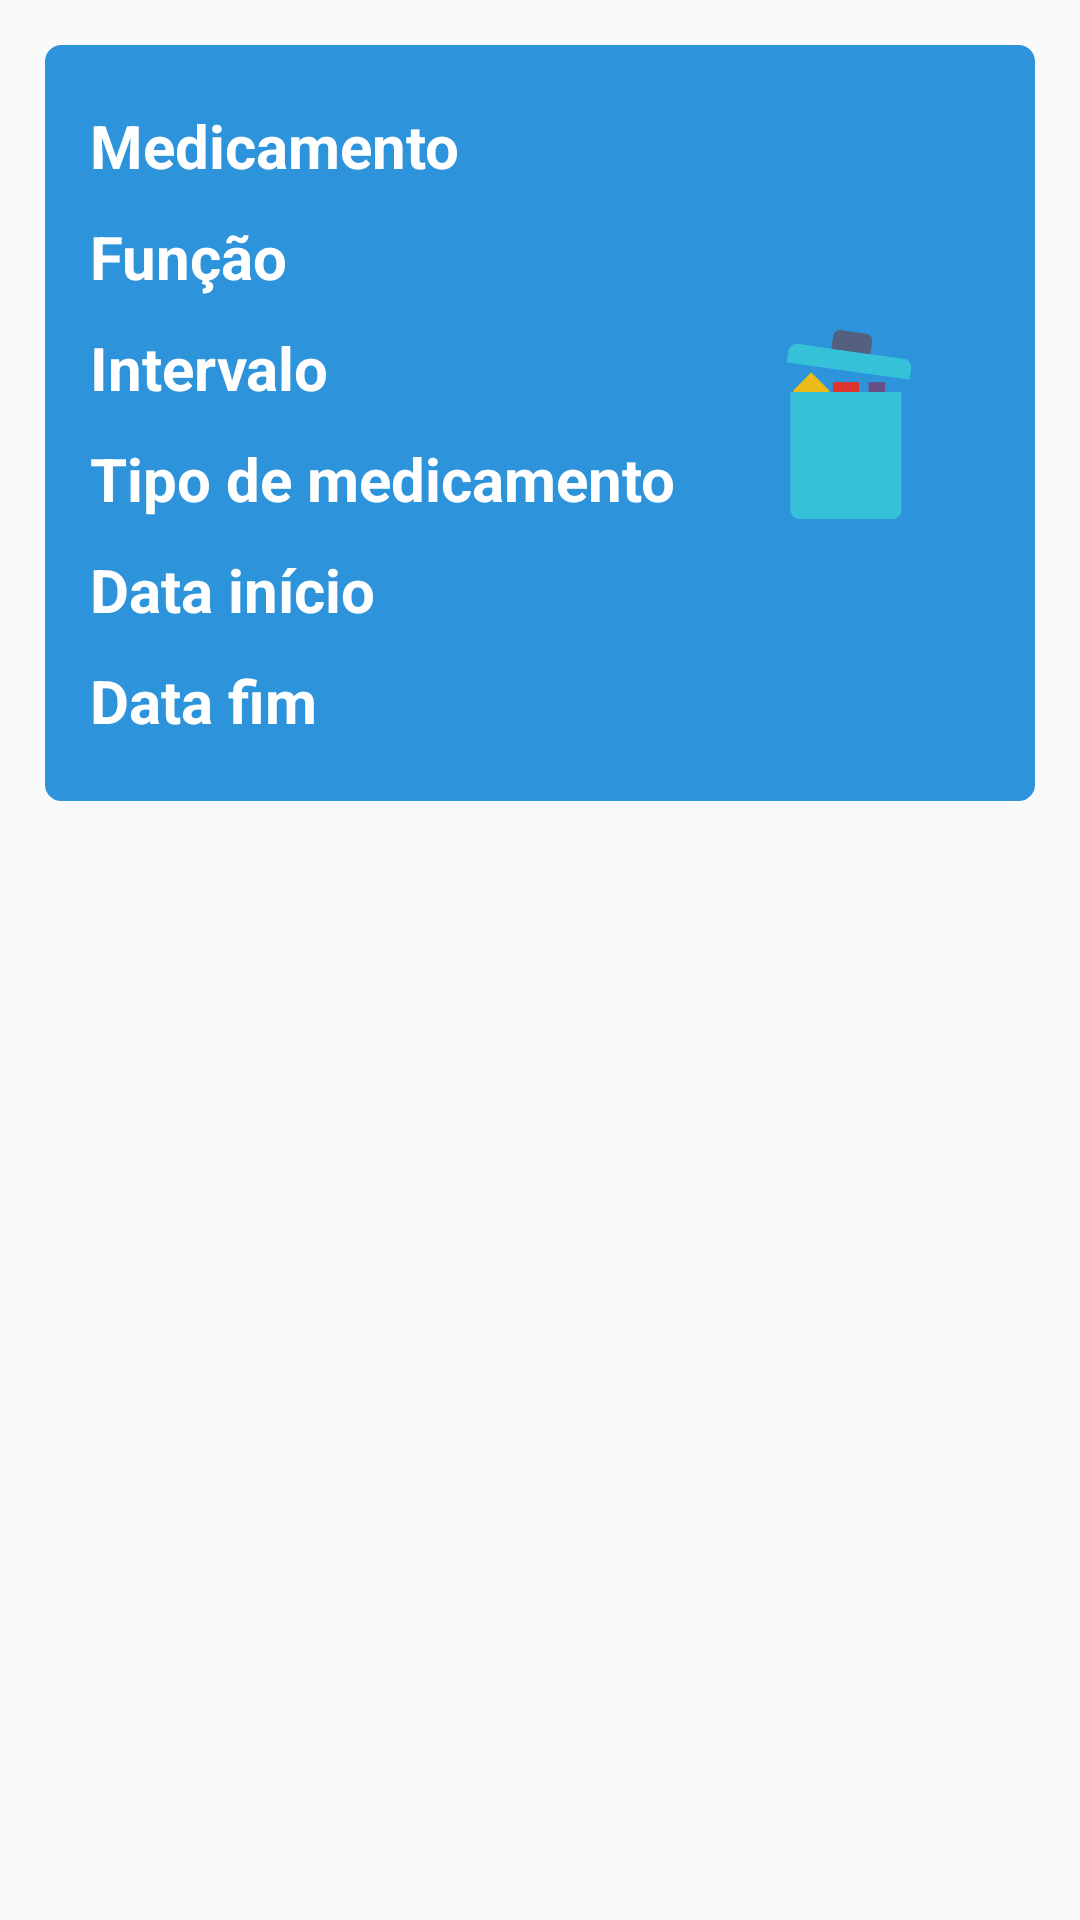

Point at icon controls on the screen. Image size 1080*1920, points as (x=x, y=y).
delete: (x=849, y=424)
